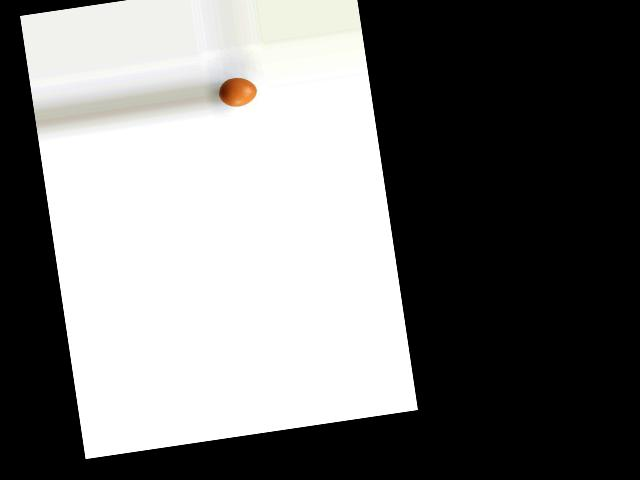egg: (216, 74, 258, 108)
